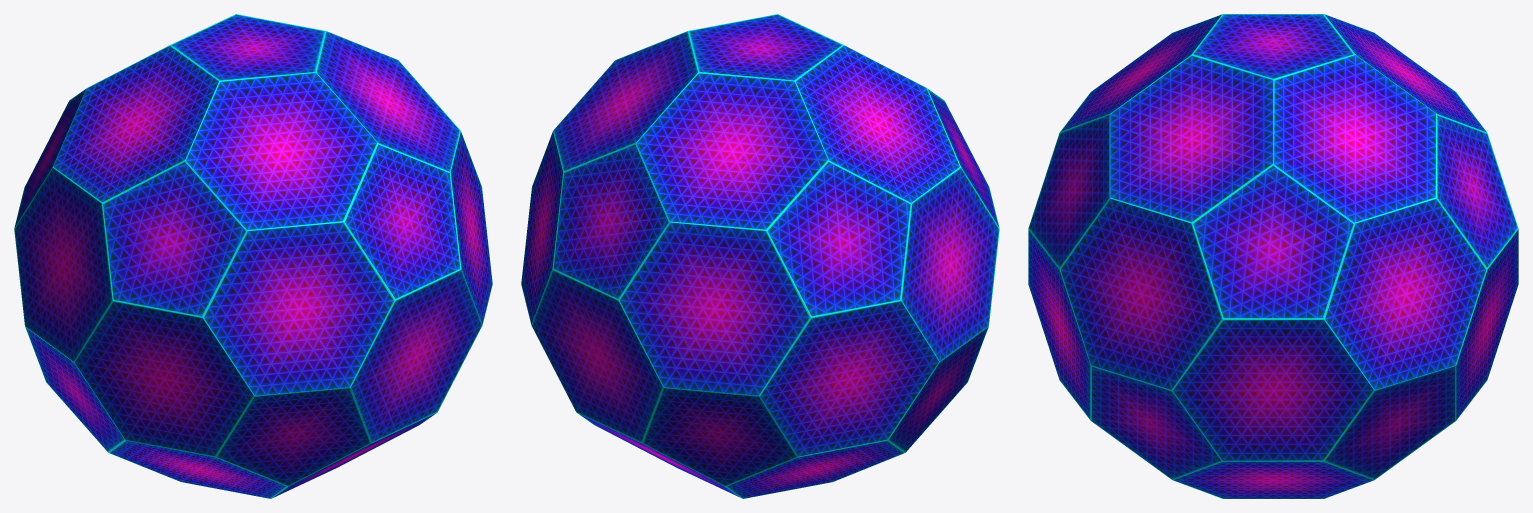
File: TIPS.fbx
3 views of the same model, side by side, from view 1: azimuth 30°, elevation 25°; view 2: azimuth 150°, elevation 25°; view 3: azimuth 270°, elevation 25° (orthographic). The views are drawn at different scales.
Parts seen in each view (by area): view 1: Icosphere; view 2: Icosphere; view 3: Icosphere.
Part boxes in pixels (<box>): Icosphere: <box>14,14,492,498</box>; Icosphere: <box>521,14,999,498</box>; Icosphere: <box>1028,14,1518,498</box>.
Size of the model in its own units: 96.01 by 93.51 by 97.52.
1 material, 1 textured.
